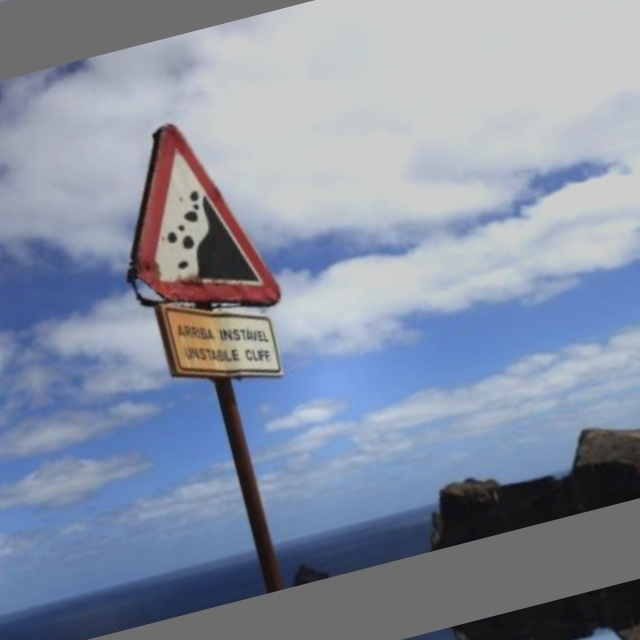Falling_Rocks: (96, 105, 282, 325)
